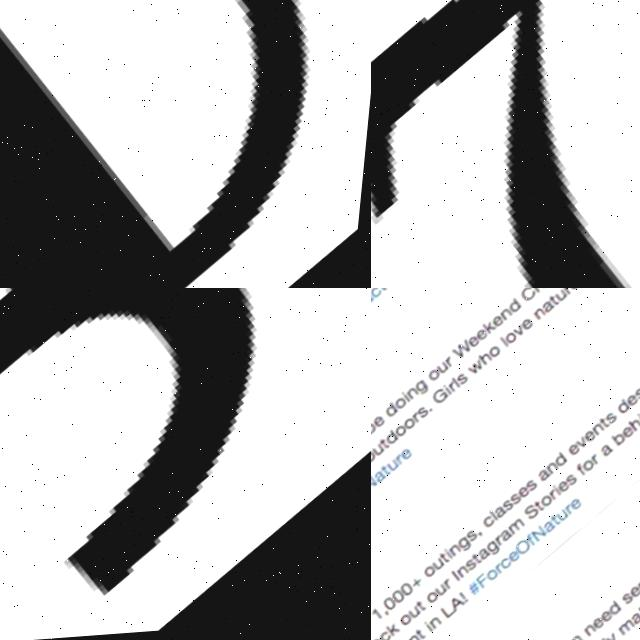3: (0, 288, 371, 630)
A: (456, 599, 475, 618), (604, 449, 621, 466), (548, 525, 565, 542), (543, 305, 559, 322), (377, 472, 393, 489), (543, 473, 559, 490), (484, 550, 500, 567), (505, 533, 521, 550), (500, 511, 515, 526), (371, 293, 379, 311), (541, 288, 557, 294)
B: (615, 436, 634, 454), (371, 422, 383, 440)
C: (520, 289, 542, 310), (488, 519, 504, 536), (505, 561, 522, 577), (371, 288, 386, 304), (386, 632, 403, 640)
D: (614, 606, 633, 626), (619, 405, 638, 424), (387, 405, 405, 423), (508, 302, 526, 320), (388, 432, 406, 450), (557, 457, 575, 475)
E: (376, 417, 393, 434), (469, 339, 486, 356), (477, 332, 494, 349), (493, 319, 510, 336), (404, 449, 421, 466), (575, 503, 592, 520), (522, 490, 538, 507), (572, 449, 588, 466), (588, 435, 604, 452), (624, 431, 640, 448), (600, 622, 616, 639), (609, 615, 625, 632), (523, 322, 539, 338), (562, 485, 578, 501), (514, 554, 530, 570), (629, 399, 640, 416), (569, 288, 585, 299), (636, 591, 640, 608)
F: (484, 578, 500, 595), (579, 469, 594, 485), (531, 539, 545, 554), (371, 620, 381, 633), (371, 623, 377, 638), (371, 484, 375, 500)
G: (433, 390, 455, 411), (418, 382, 437, 402), (491, 544, 510, 563), (463, 541, 481, 558)
H: (481, 354, 497, 371), (532, 288, 550, 300), (630, 422, 640, 440)
I: (449, 552, 463, 567), (556, 489, 570, 504), (430, 623, 444, 638), (456, 573, 470, 588), (405, 394, 417, 408), (446, 387, 458, 401)
K: (392, 622, 412, 640), (485, 323, 501, 340)
L: (447, 606, 466, 625), (500, 340, 514, 355), (495, 514, 507, 528), (455, 381, 467, 393)
M: (513, 522, 534, 543), (626, 624, 640, 640)
N: (536, 530, 556, 549), (371, 476, 385, 497), (551, 466, 568, 483), (501, 312, 517, 329), (535, 311, 551, 328), (595, 428, 611, 445), (463, 568, 479, 585), (436, 619, 452, 636), (455, 547, 471, 563), (409, 390, 425, 405), (591, 629, 607, 640), (415, 636, 431, 640)
O: (520, 544, 539, 563), (431, 593, 449, 611), (587, 463, 604, 480), (397, 427, 413, 444), (407, 419, 423, 436), (490, 348, 506, 365), (507, 334, 523, 351), (429, 569, 446, 585), (492, 572, 508, 589), (407, 616, 423, 632), (545, 500, 561, 516), (398, 400, 413, 415), (431, 373, 446, 388), (371, 452, 383, 469), (383, 288, 399, 292)
R: (553, 494, 567, 509), (500, 539, 513, 553), (415, 415, 428, 428), (399, 457, 412, 470), (451, 582, 464, 595), (595, 460, 608, 473), (501, 568, 514, 581), (564, 290, 577, 303), (452, 385, 464, 398), (570, 510, 583, 522), (448, 361, 459, 373)
S: (529, 507, 549, 528), (608, 417, 625, 434), (458, 376, 474, 393), (472, 533, 488, 550), (515, 496, 531, 513), (530, 483, 546, 500), (570, 478, 587, 494), (471, 562, 487, 578), (420, 409, 436, 424), (507, 503, 522, 518), (628, 598, 640, 615), (636, 392, 640, 410)
T: (477, 556, 493, 572), (382, 439, 397, 455), (445, 555, 460, 571), (602, 422, 617, 437), (423, 603, 437, 618), (539, 505, 553, 520), (556, 519, 570, 534), (384, 468, 398, 482), (550, 300, 563, 314), (423, 632, 436, 640), (377, 288, 390, 295)
U: (442, 586, 458, 603), (439, 365, 454, 380), (376, 446, 391, 461), (557, 294, 572, 309), (391, 462, 406, 477), (439, 562, 454, 577), (415, 609, 430, 624), (562, 515, 576, 529)
V: (371, 0, 640, 288), (515, 328, 531, 345), (580, 441, 596, 458)
W: (454, 344, 478, 367), (470, 363, 489, 382)
